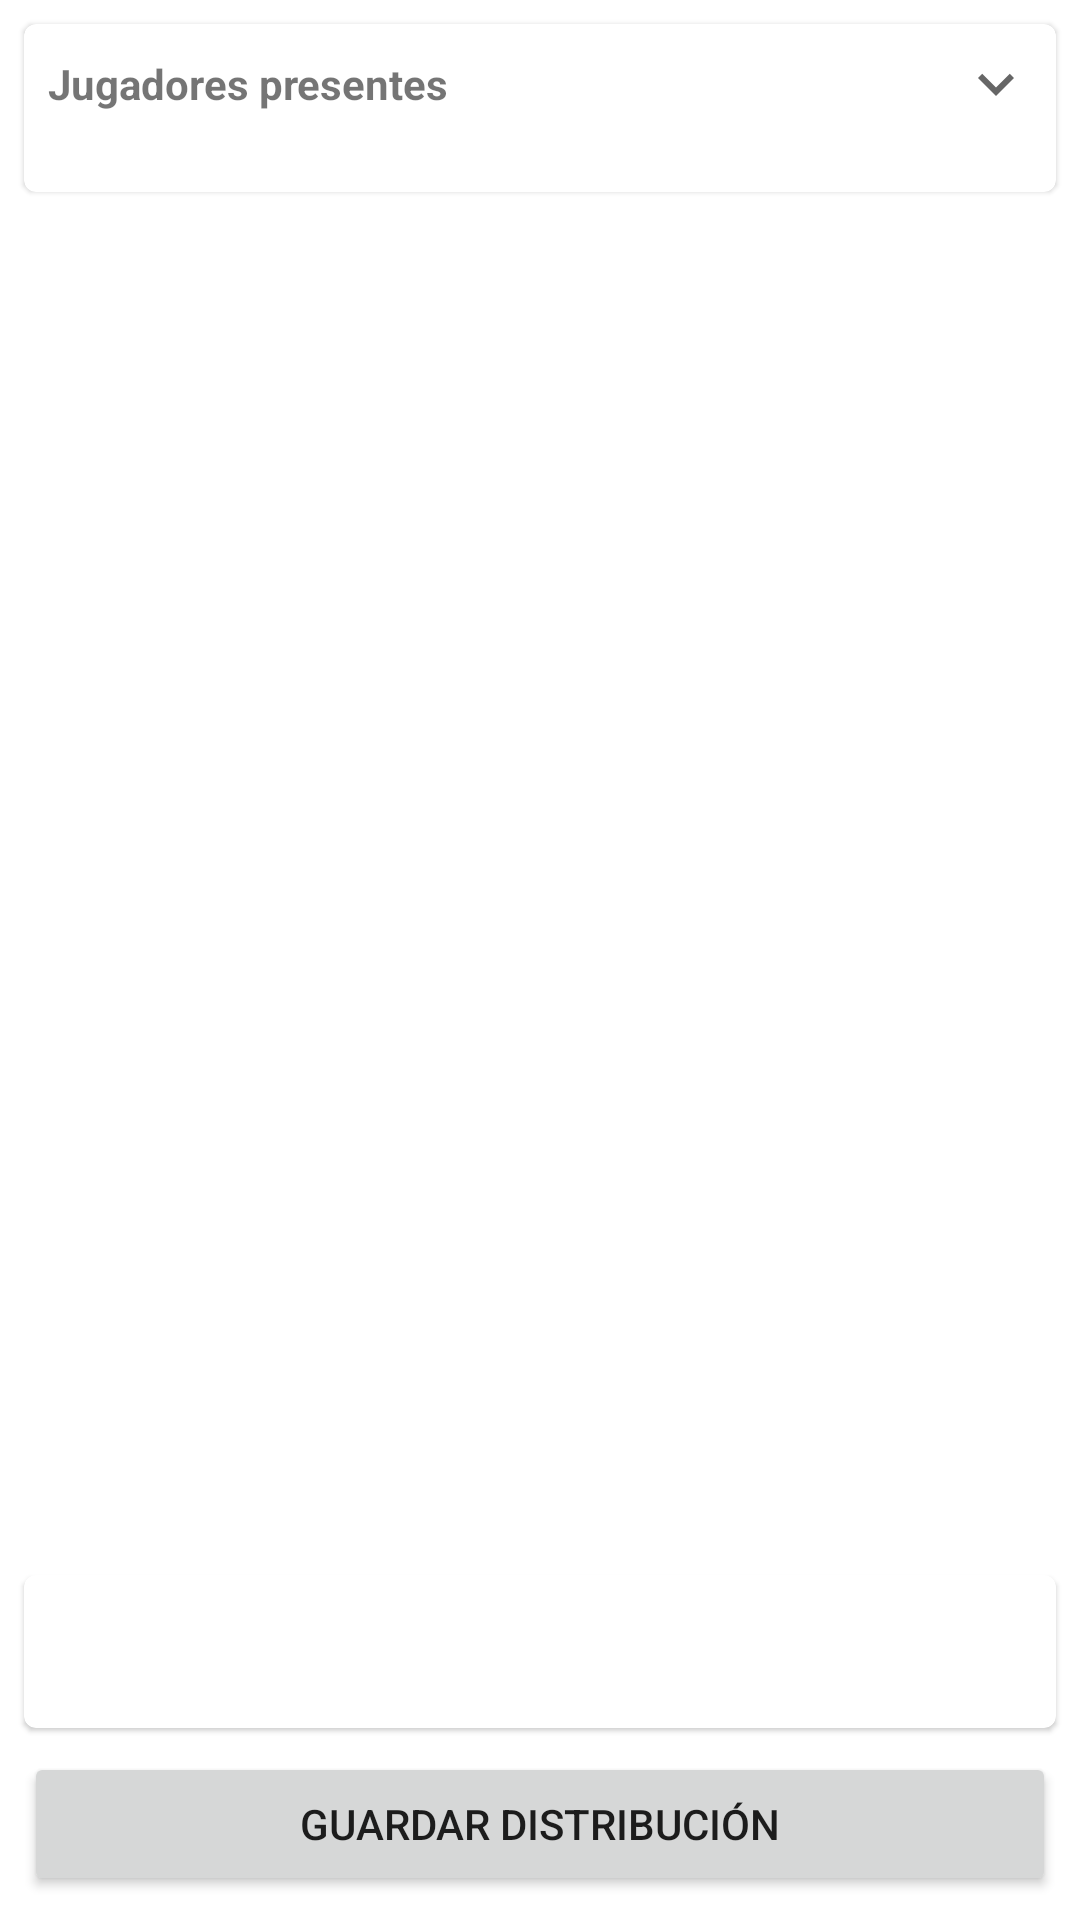

Named icons in this screenshot (1080*1920) and their bounding boxes, bbox=(x1, y1, x2, y2):
expand more: bbox=(978, 74, 1014, 96)
